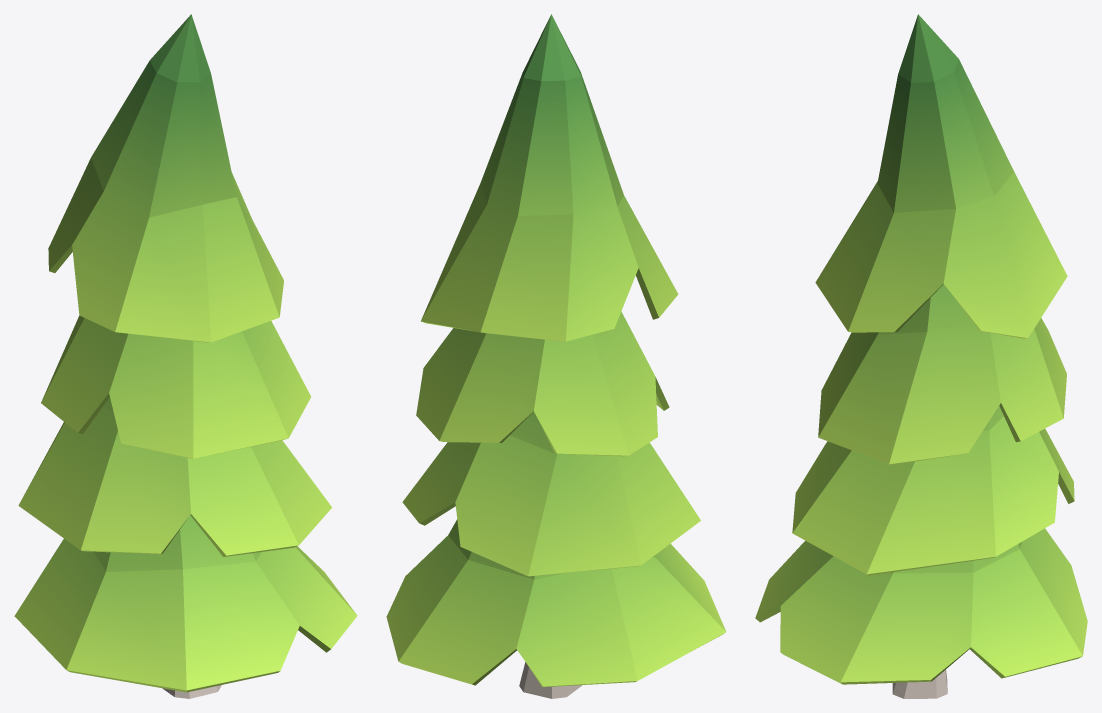
File: GreenPine6.fbx
The picture shows the model from 3 angles, left to right: view 1: azimuth 30°, elevation 25°; view 2: azimuth 150°, elevation 25°; view 3: azimuth 270°, elevation 25°; orthographic projection.
Parts seen in each view (by area): view 1: GreenPine6; view 2: GreenPine6; view 3: GreenPine6.
Part boxes in pixels (left/top/right/bottom): GreenPine6: left=14, top=14, right=357, bottom=698; GreenPine6: left=386, top=14, right=726, bottom=698; GreenPine6: left=755, top=14, right=1087, bottom=698.
Size of the model in its own units: 499 by 1107 by 495.
